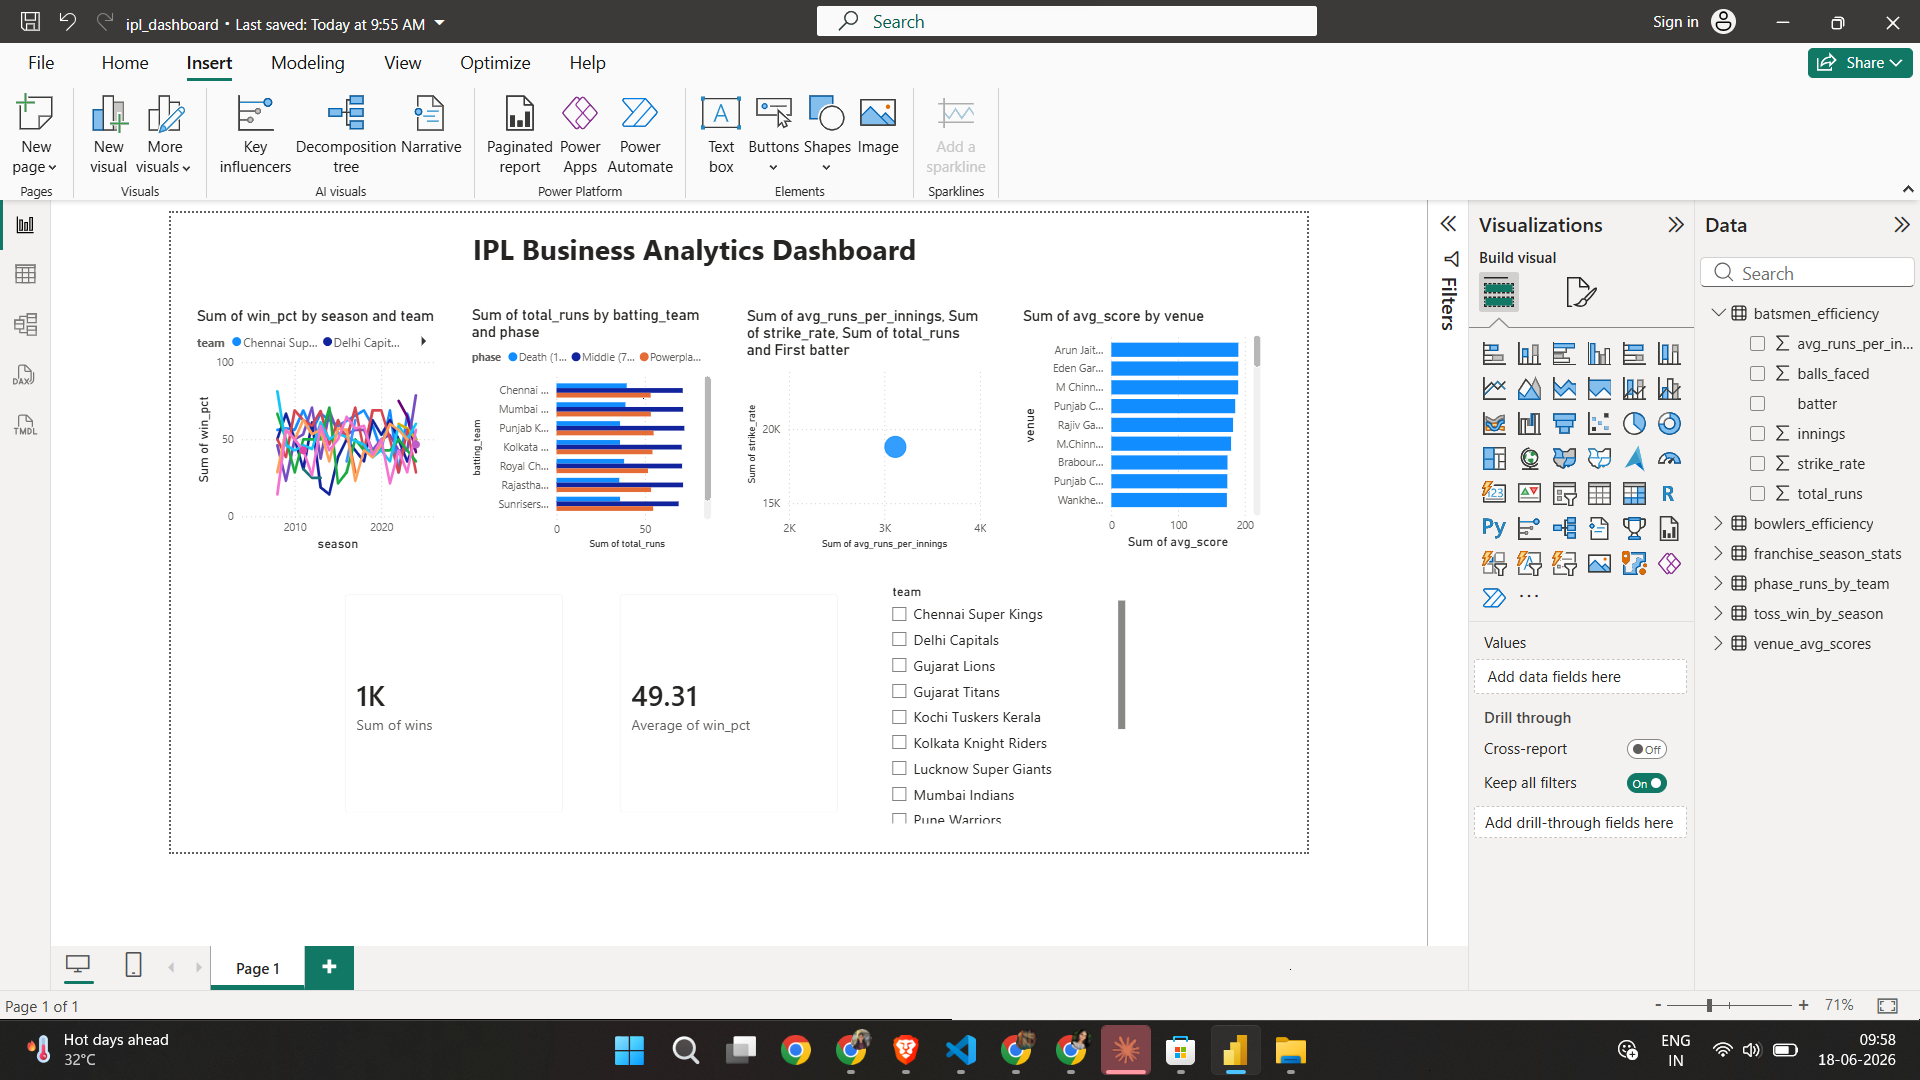

The dashboard page shown, as its layout file describes it:
{"tool":"powerbi","page":{"name":"Page 1","canvas":[1280,720],"ordinal":0},"visuals":[{"type":"lineChart","fields":{"Category":["franchise_season_stats.season"],"Y":["Sum(franchise_season_stats.win_pct)"],"Series":["franchise_season_stats.team"]},"box":[23.6,105.5,280,280],"z":0},{"type":"clusteredBarChart","fields":{"Category":["phase_runs_by_team.batting_team"],"Y":["Sum(phase_runs_by_team.total_runs)"],"Series":["phase_runs_by_team.phase"]},"box":[333.9,103.6,280,280],"z":1000},{"type":"clusteredBarChart","fields":{"Category":["venue_avg_scores.venue"],"Y":["Sum(venue_avg_scores.avg_score)"]},"box":[954.5,105.5,278.2,278.2],"z":2000},{"type":"scatterChart","fields":{"X":["Sum(batsmen_efficiency.avg_runs_per_innings)"],"Y":["Sum(batsmen_efficiency.strike_rate)"],"Size":["Sum(batsmen_efficiency.total_runs)"]},"box":[644.2,105.5,280,278.2],"z":3000},{"type":"cardVisual","fields":{"Data":["Sum(franchise_season_stats.wins)"]},"box":[178.8,412.7,280,280],"z":4000},{"type":"cardVisual","fields":{"Data":["Avg(franchise_season_stats.win_pct)"]},"box":[489.1,412.7,280,280],"z":5000},{"type":"slicer","fields":{"Values":["franchise_season_stats.team"]},"box":[799.4,412.7,280,280],"z":6000},{"type":"textbox","box":[334.5,14.5,650.9,74.5],"z":6001}]}

Visuals, with their boxes on the page's 1280x720 design canvas (x1, y1, x2, y2). These are canvas units, not pixel positions in the 1920x1080 screenshot, which may show the page scaled, cropped or inside an application window:
lineChart - franchise_season_stats.season x Sum(franchise_season_stats.win_pct): <region>24, 106, 304, 386</region>
clusteredBarChart - phase_runs_by_team.batting_team x Sum(phase_runs_by_team.total_runs): <region>334, 104, 614, 384</region>
clusteredBarChart - venue_avg_scores.venue x Sum(venue_avg_scores.avg_score): <region>954, 106, 1233, 384</region>
scatterChart - Sum(batsmen_efficiency.avg_runs_per_innings) x Sum(batsmen_efficiency.strike_rate): <region>644, 106, 924, 384</region>
cardVisual - Sum(franchise_season_stats.wins): <region>179, 413, 459, 693</region>
cardVisual - Avg(franchise_season_stats.win_pct): <region>489, 413, 769, 693</region>
slicer - franchise_season_stats.team: <region>799, 413, 1079, 693</region>
textbox: <region>334, 14, 985, 89</region>
